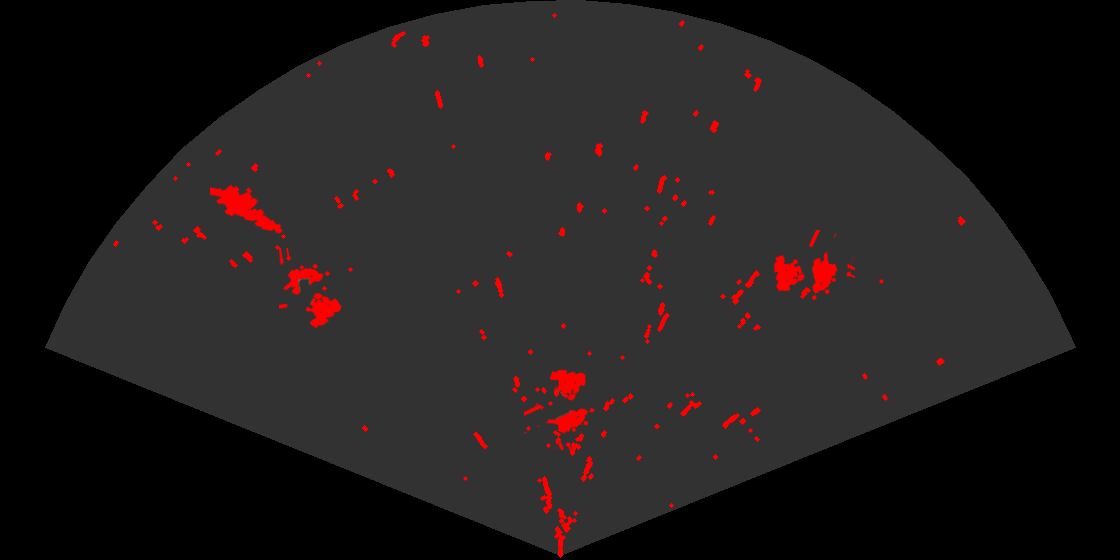cage: (772, 230, 855, 302), (524, 368, 596, 450), (279, 248, 343, 330)
frogman: (210, 183, 284, 235)
